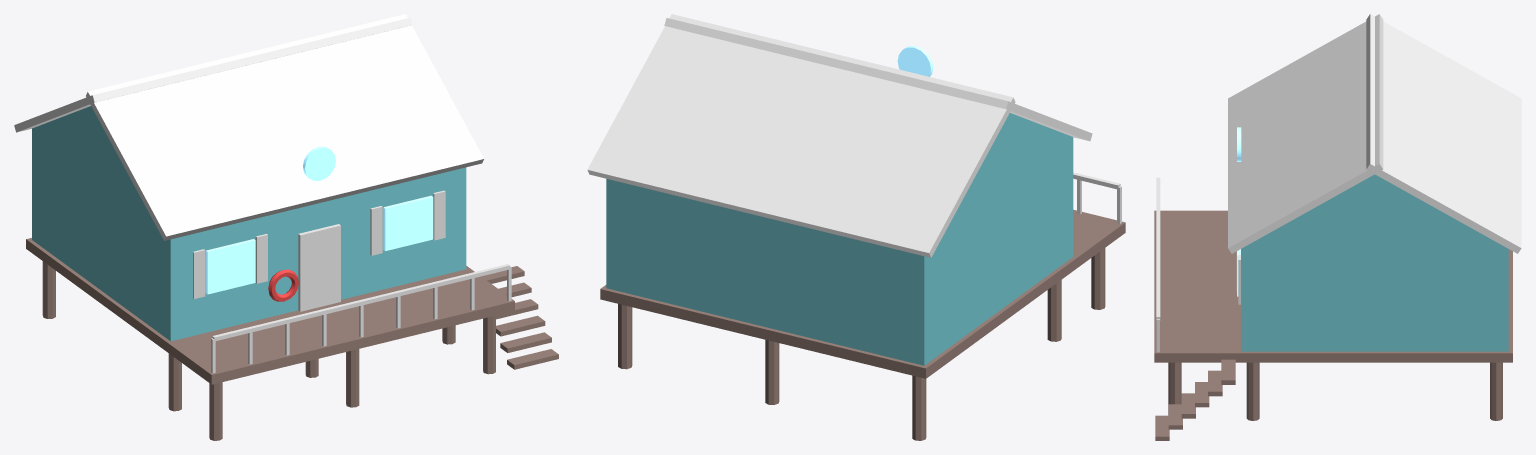
Rendered from journey_beachhouse.glb.
The picture shows the model from 3 angles, left to right: view 1: azimuth 30°, elevation 25°; view 2: azimuth 150°, elevation 25°; view 3: azimuth 270°, elevation 25°; orthographic projection. The views are drawn at different scales.
Parts seen in each view (by area): view 1: BeachHouse_body; view 2: BeachHouse_body; view 3: BeachHouse_body.
Boxes of the visible parts, box(x1,y1,x2,y2) form: BeachHouse_body: box(14, 14, 558, 440); BeachHouse_body: box(587, 14, 1125, 440); BeachHouse_body: box(1154, 14, 1521, 440).
Bounding box in the file's own units: 9.6 × 7.09 × 8.91.
